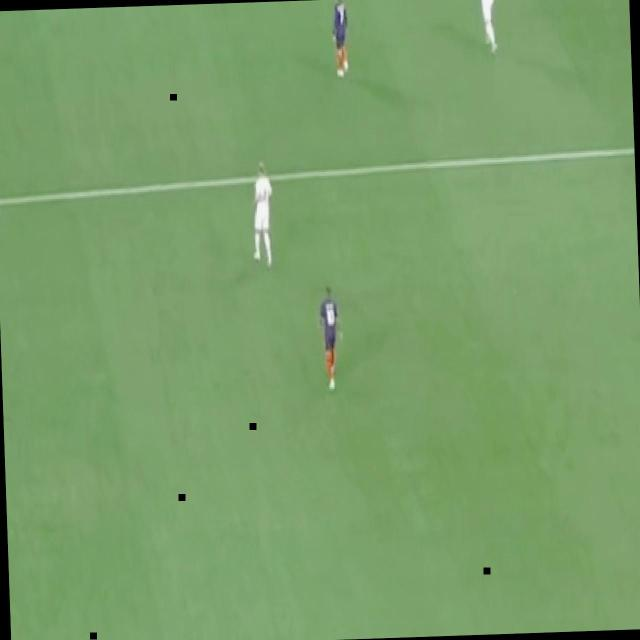player-white: (315, 280, 347, 394), (249, 156, 277, 270), (326, 0, 350, 82), (474, 0, 500, 54)
